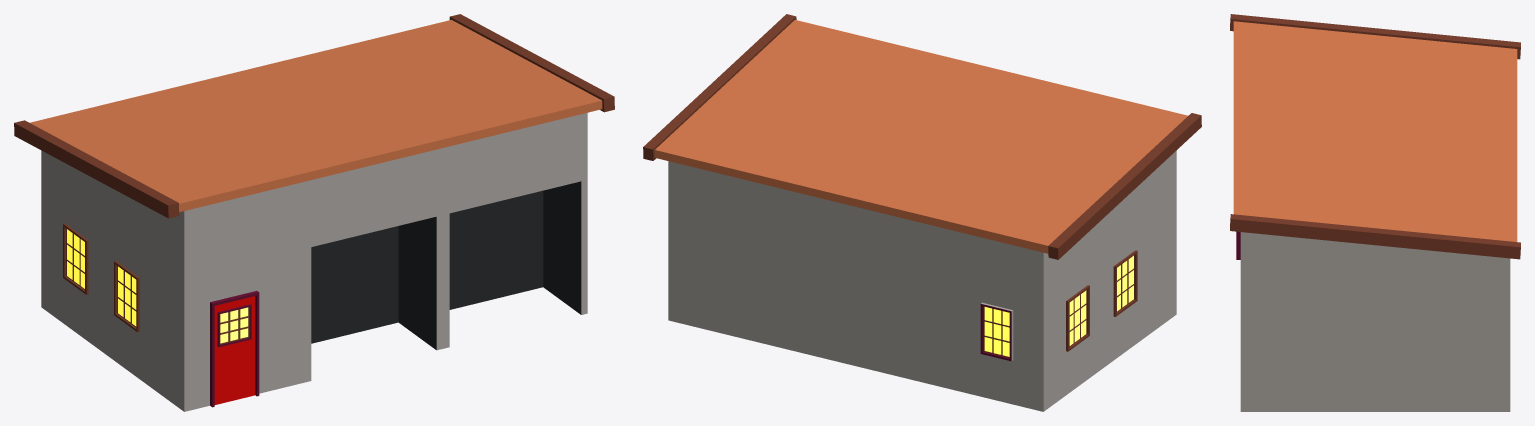
The model's file is SM_garage.glb.
3 renders of one model, left to right at view 1: azimuth 30°, elevation 25°; view 2: azimuth 150°, elevation 25°; view 3: azimuth 270°, elevation 25°, orthographic. The views are drawn at different scales.
Visible parts, largest first — view 1: SM_garage; view 2: SM_garage; view 3: SM_garage.
Part boxes in pixels (x1,y1,x2,y2): SM_garage: (14, 14, 614, 411); SM_garage: (643, 14, 1201, 411); SM_garage: (1230, 14, 1520, 411).
Size of the model in its own units: 10 by 4.62 by 6.
Materials: 2 (1 with a texture image).
